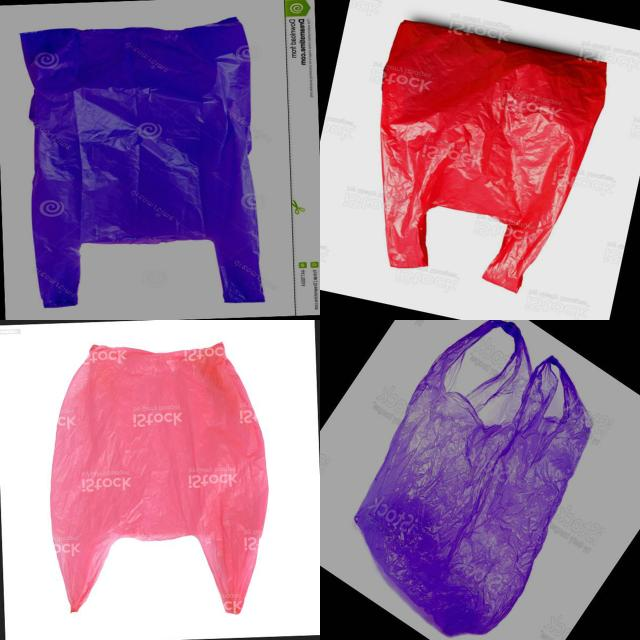Single-layer Plastic: (355, 321, 592, 635), (21, 19, 264, 308), (380, 20, 606, 292), (50, 342, 268, 614)
